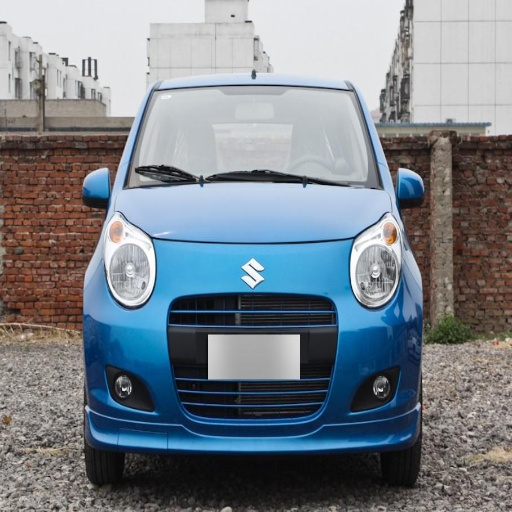front_bumper: (88, 225, 416, 442)
front_right_light: (108, 221, 155, 307)
hood: (118, 184, 387, 242)
